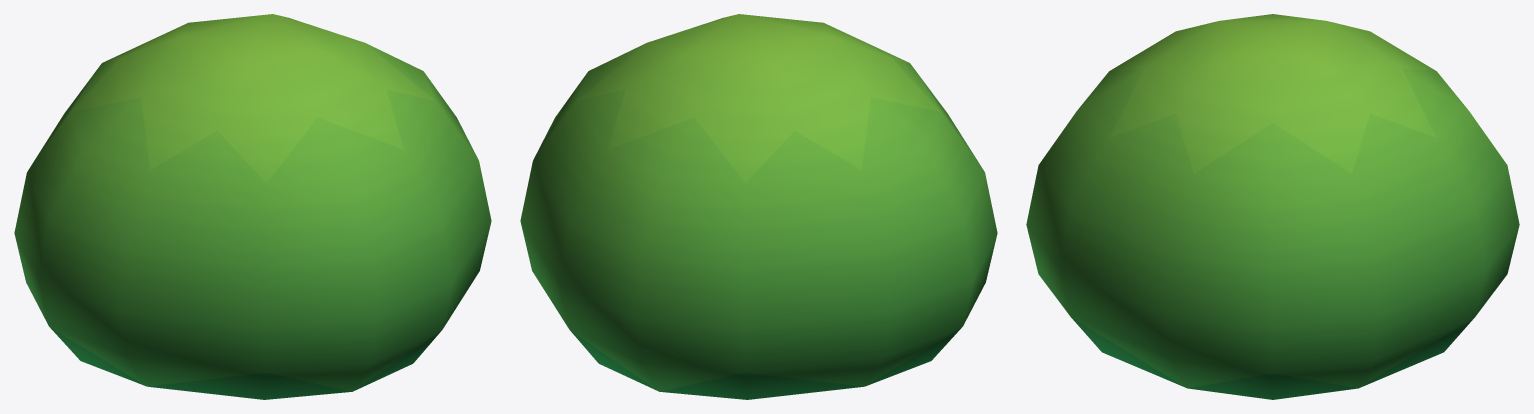
Rendered from Bush_1_C_Color1.gltf.
3 views of the same model, side by side, from view 1: azimuth 30°, elevation 25°; view 2: azimuth 150°, elevation 25°; view 3: azimuth 270°, elevation 25° (orthographic).
Visible parts, largest first — view 1: Bush_1_C_Color1; view 2: Bush_1_C_Color1; view 3: Bush_1_C_Color1.
Boxes of the visible parts, box(x1,y1,x2,y2) form: Bush_1_C_Color1: box(14, 14, 491, 399); Bush_1_C_Color1: box(520, 14, 997, 399); Bush_1_C_Color1: box(1026, 14, 1519, 399).
Size of the model in its own units: 1.2 by 0.8074 by 1.2.
1 material, 1 textured.
